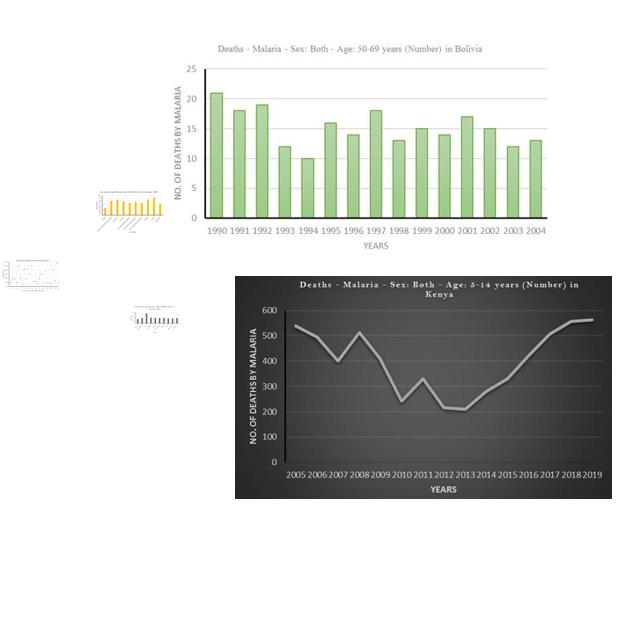Graph: (164, 37, 557, 254), (235, 276, 612, 499), (93, 190, 164, 233), (2, 259, 60, 292), (129, 305, 180, 334)
